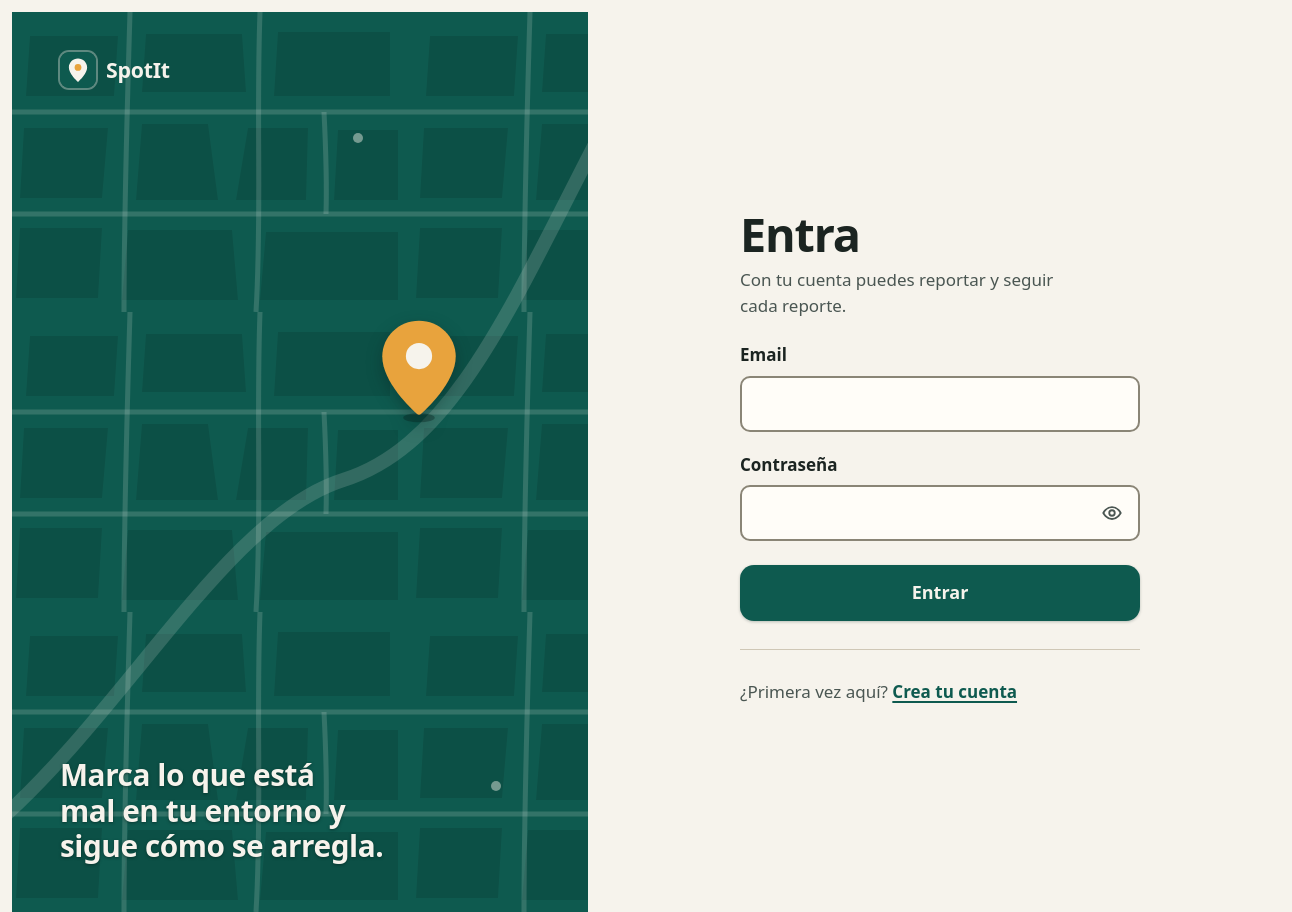
Test: formulario de entrada › muestra el error de credenciales del servidor
Type "ana@ejemplo.mx" into the field labelled "Email".
click(940, 404); type("ana@ejemplo.mx")  # box [740,376,1140,432]
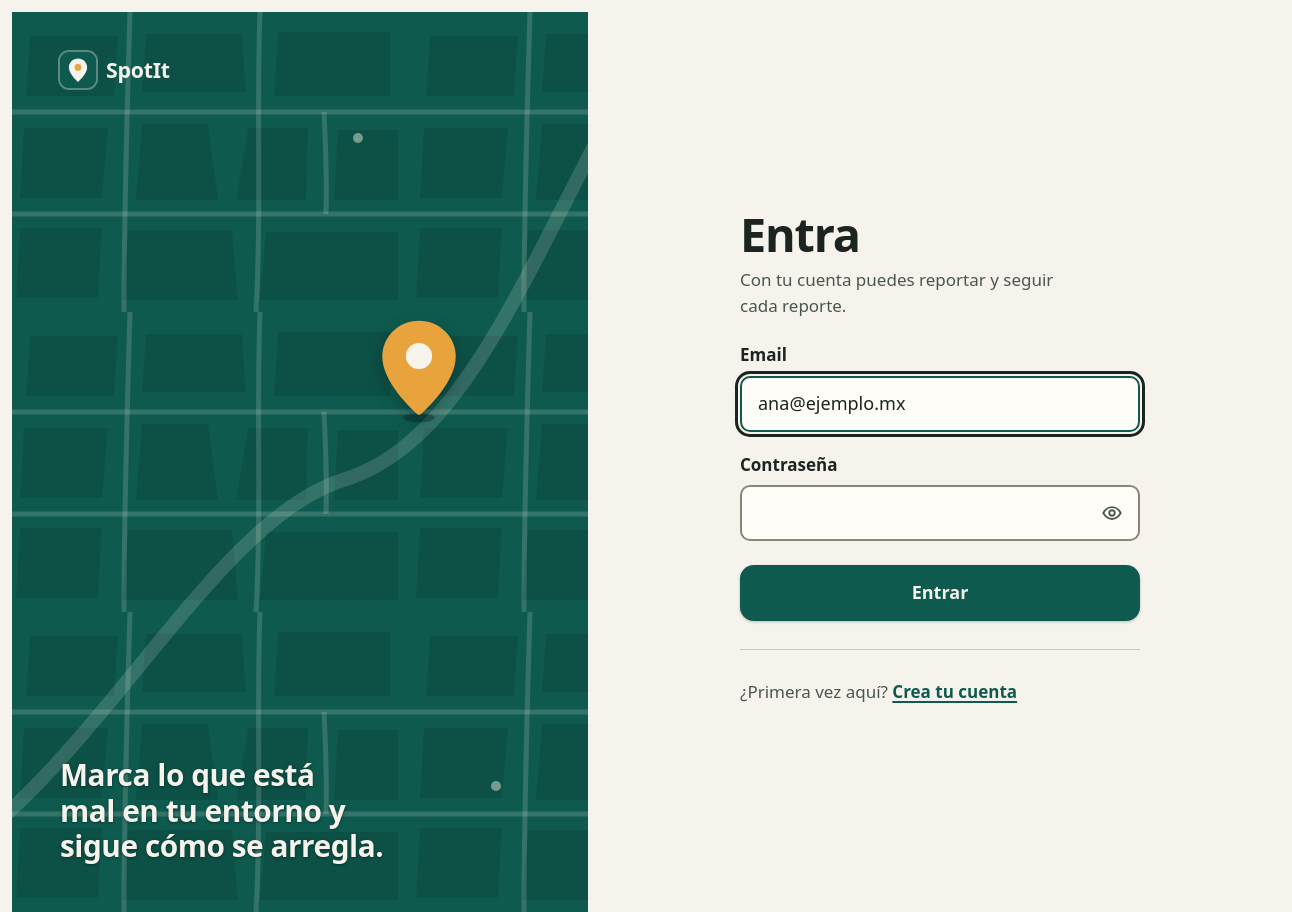
Type "equivocada" into the password field labelled "Contraseña".
click(940, 513); type("equivocada")  # box [740,485,1140,541]
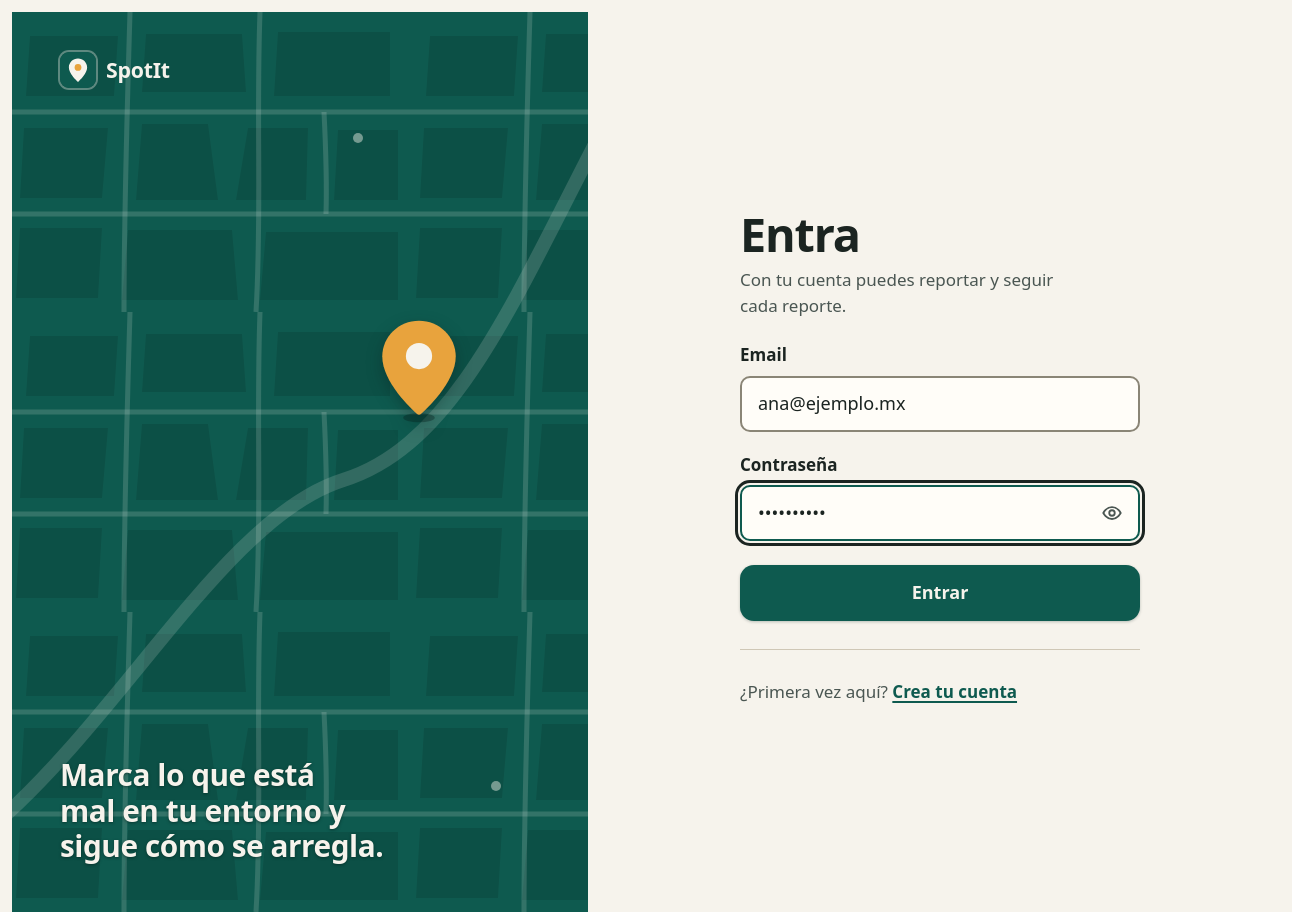
Click the button "Entrar".
click(940, 593)  # box [740,565,1140,621]
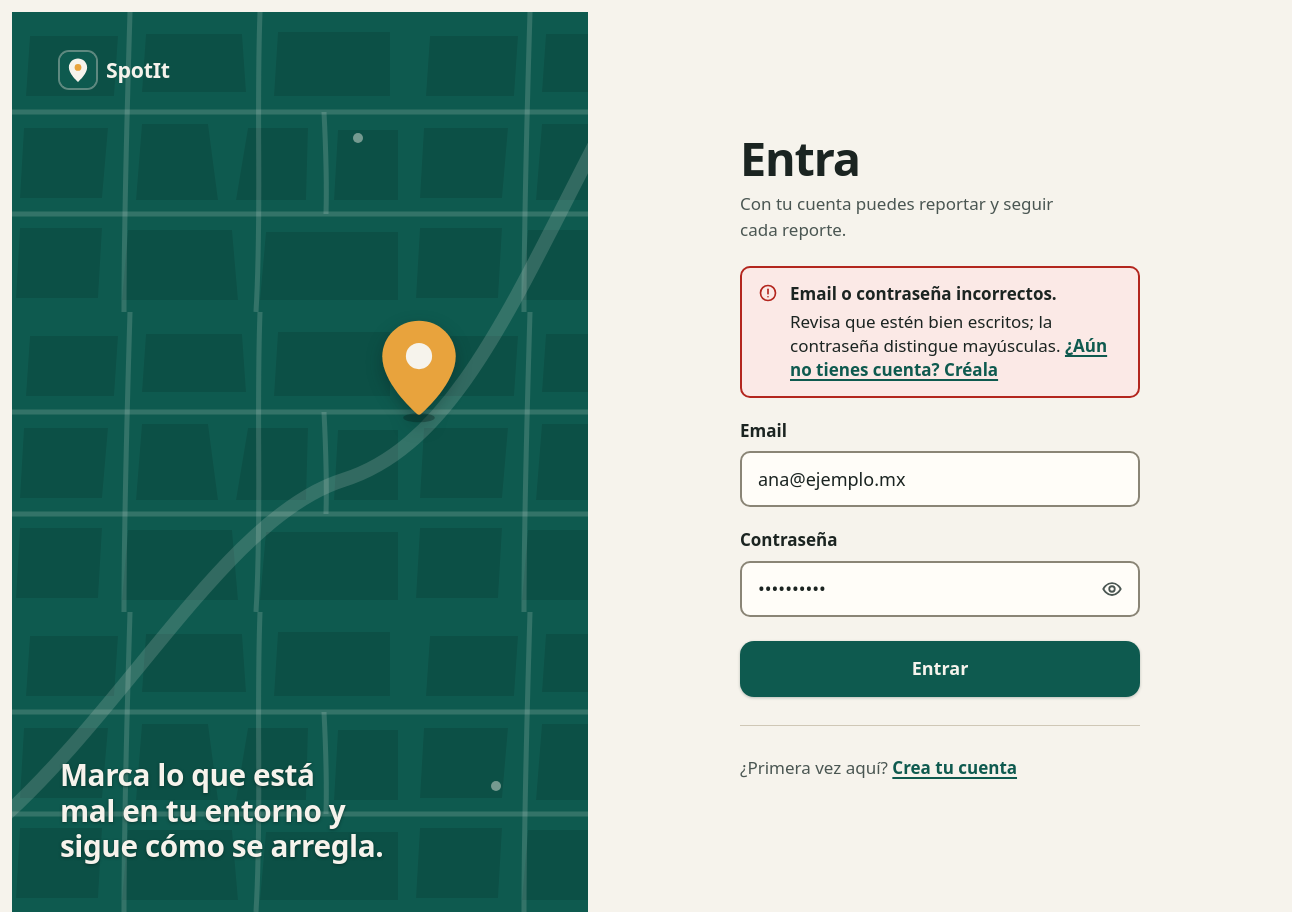
Expected: the message shows "Email o contraseña incorrectos.", [790,282,1057,305]
Expected: the message shows "la contraseña distingue mayúsculas", [790,310,1060,357]
